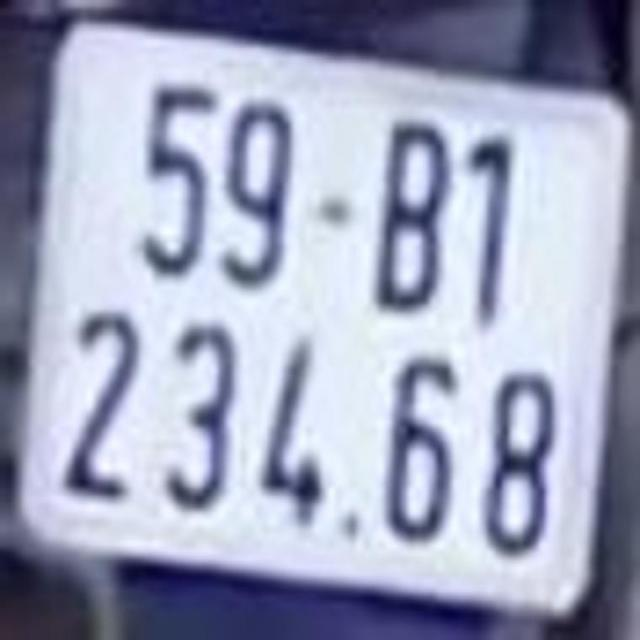1: (462, 123, 517, 328)
2: (63, 307, 137, 500)
3: (165, 316, 235, 513)
4: (261, 333, 327, 530)
5: (137, 76, 215, 278)
6: (387, 350, 457, 545)
8: (485, 366, 555, 558)
9: (221, 88, 293, 290)
B: (374, 113, 450, 316)
